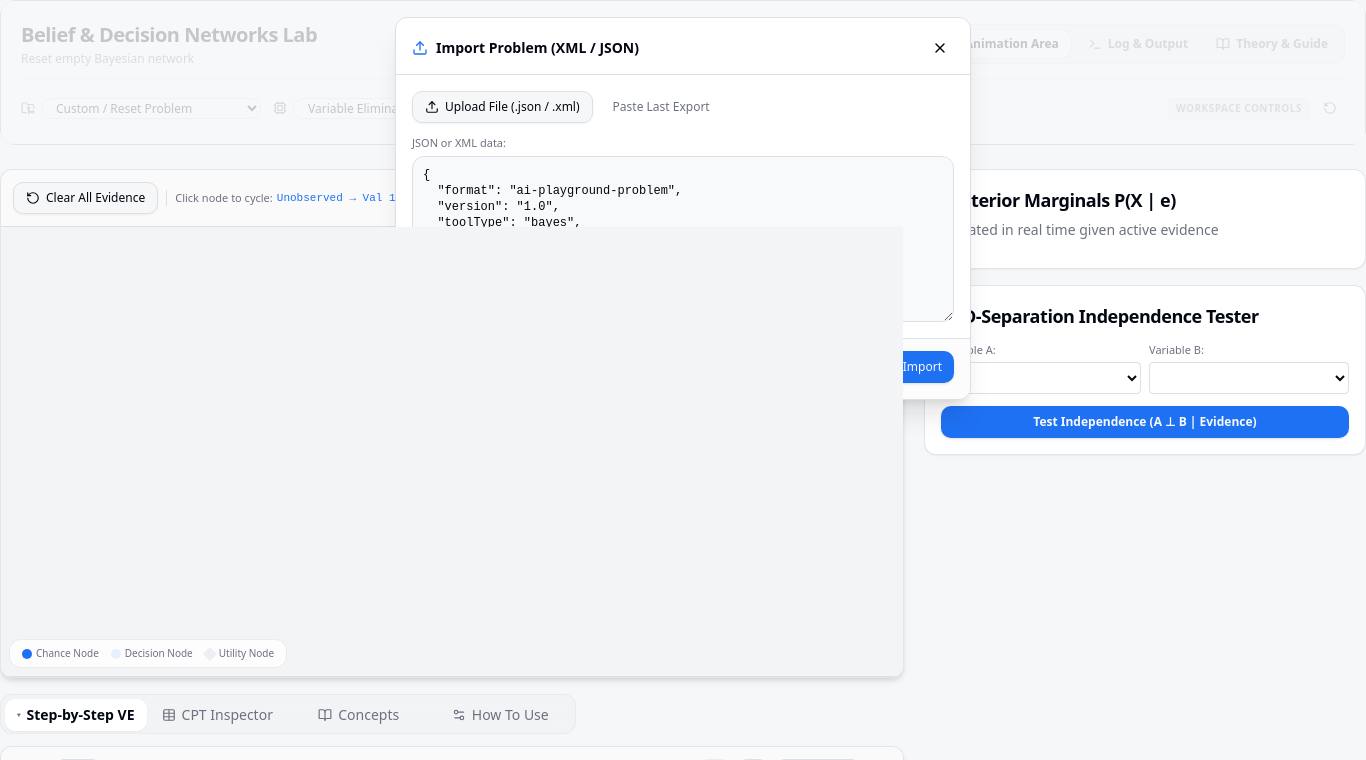
Test: Problem Export, Reset, and Import UI Integration › 4. BayesTool exports, resets, and imports BayesNetwork via JSON
Earlier steps of the test are not shown.
What coordinates should you click on to do the following:
click the button with test id "problem-import-submit"
I would click on:
 (905, 366)
Its box is 856,350 -> 954,382.
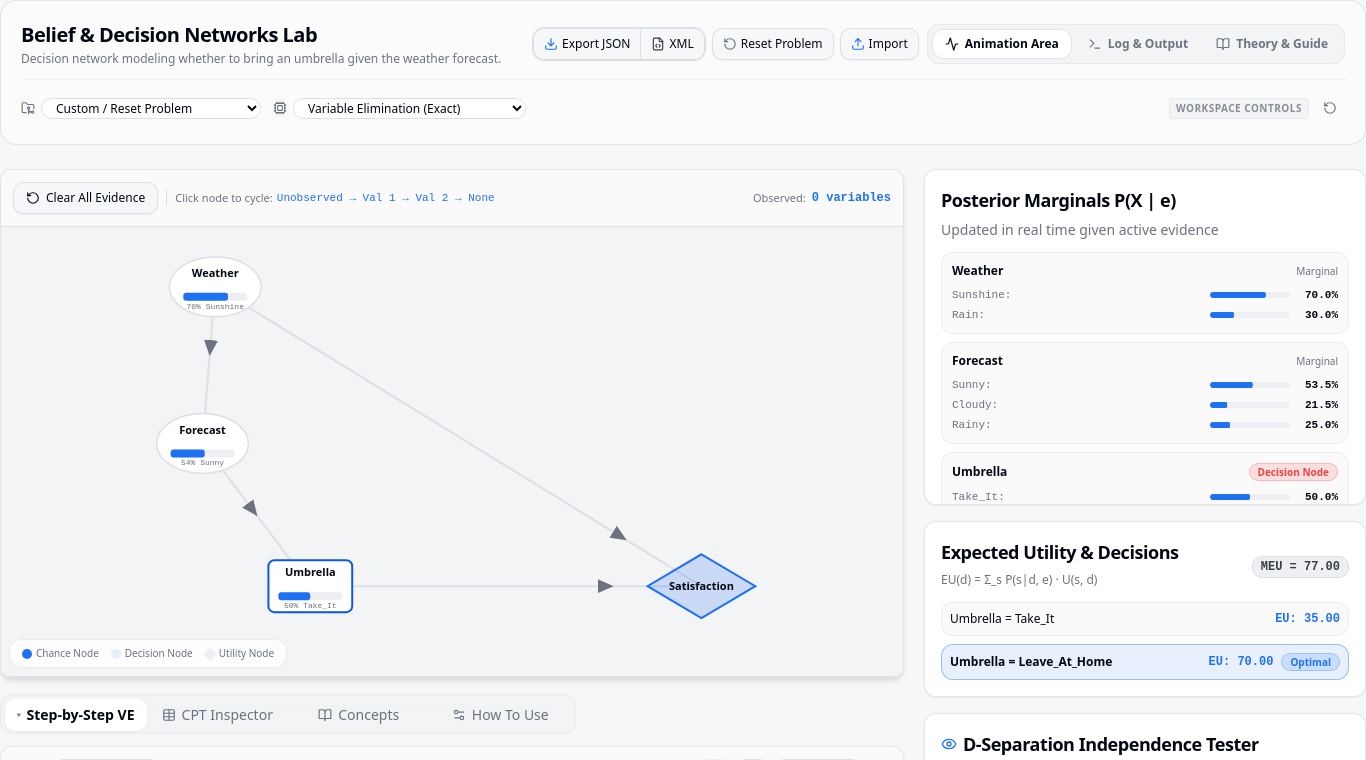
Result: the element with test id "import-modal" is gone
Result: the text "weather" is shown at 21,50 -> 501,67
